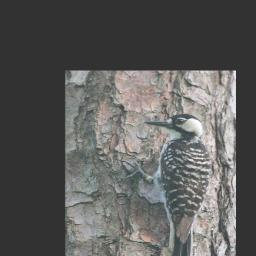Woodpecker: (117, 113, 216, 256)
